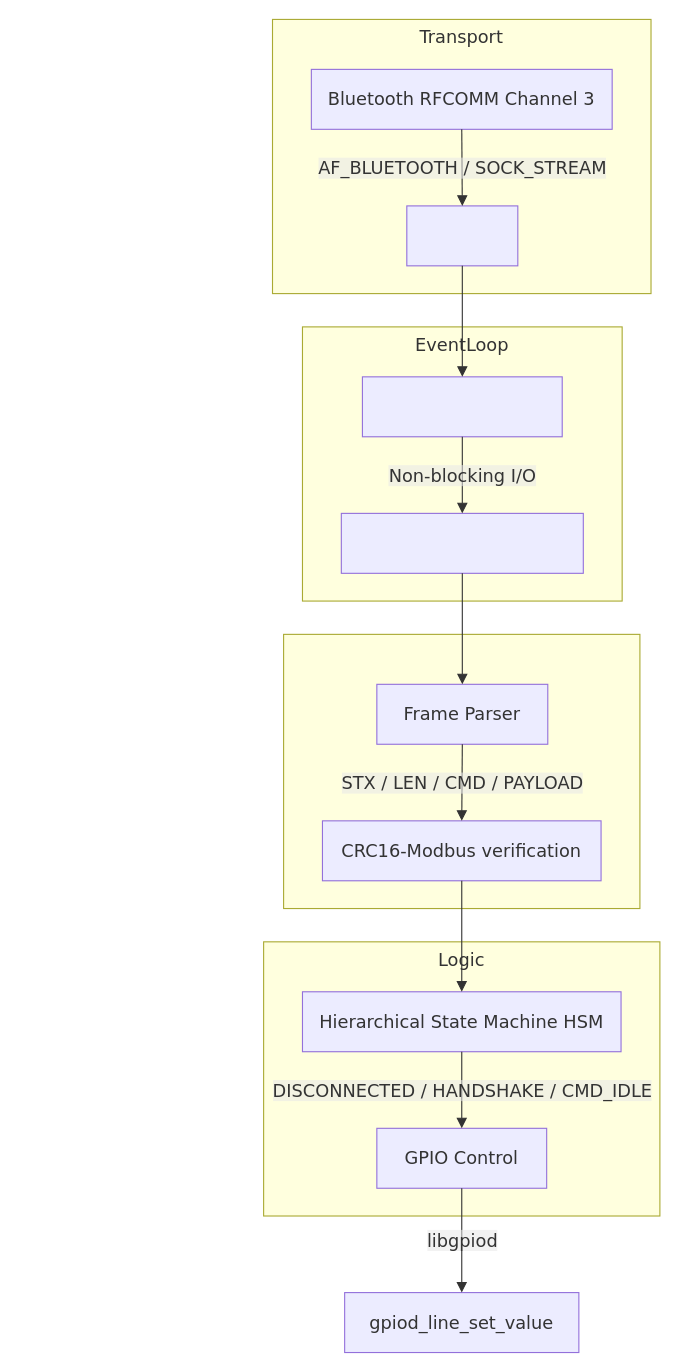
Some shapes in this 679 by 1372 pixel diagram are drawn without their labels. The box of each missing label's shape, as (x1, y1, x2, y2) in pixels:
BlueZ: (406, 205, 518, 266)
Edge-triggered events: (340, 512, 583, 573)
epoll Event Loop: (361, 376, 562, 437)
Processing: (282, 633, 640, 909)
